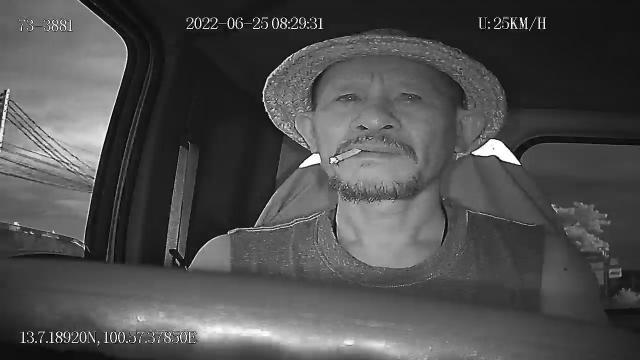SafeDriving: (329, 84, 366, 109), (390, 85, 427, 109)
Smoking: (331, 146, 362, 164)
